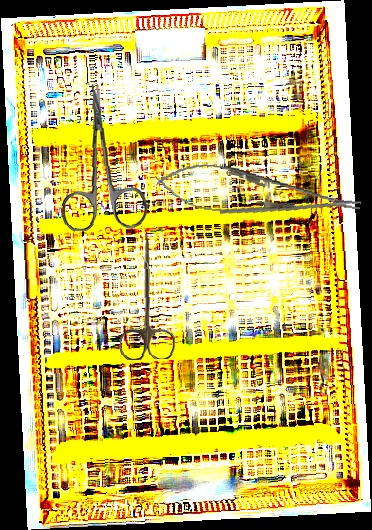Iris Scissors: (55, 81, 149, 233), (116, 234, 176, 361)
Needle Holder: (153, 156, 364, 232)
